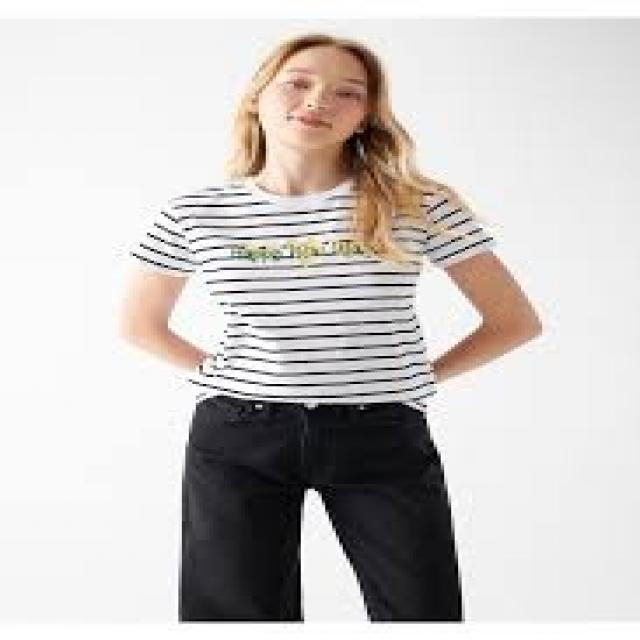Shirt: (126, 170, 498, 414)
